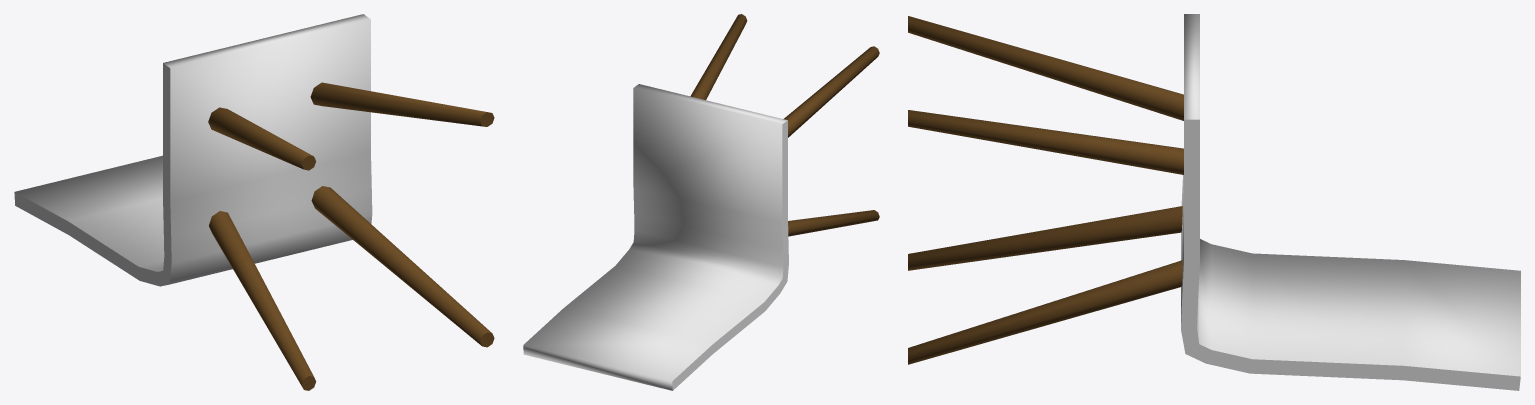
Rendered from Chair_1.glb.
3 renders of one model, left to right at view 1: azimuth 30°, elevation 25°; view 2: azimuth 150°, elevation 25°; view 3: azimuth 270°, elevation 25°, orthographic. The views are drawn at different scales.
Visible parts, largest first — view 1: Chair 1; view 2: Chair 1; view 3: Chair 1.
Boxes of the visible parts, <box> form: Chair 1: <box>14,14,494,390</box>; Chair 1: <box>523,14,879,390</box>; Chair 1: <box>908,14,1520,390</box>.
Size of the model in its own units: 0.5481 by 0.6641 by 1.34.
Materials: 1 (1 with a texture image).
